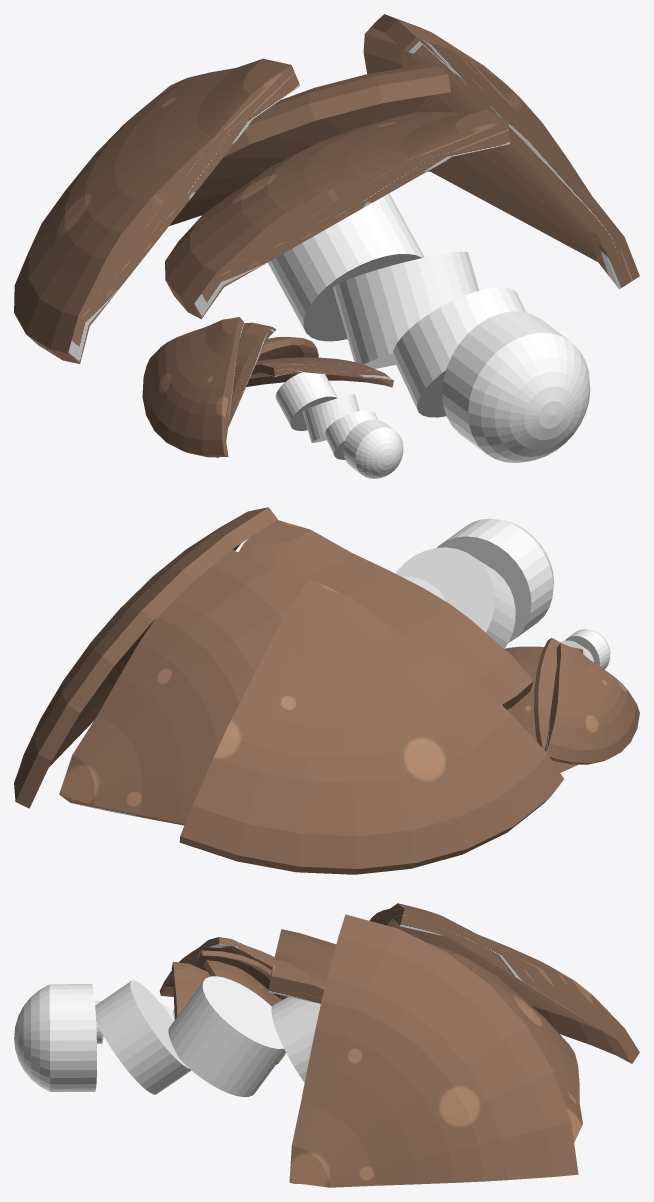
Rendered from shroomcut.gltf.
3 views of the same model, one above another, from view 1: azimuth 30°, elevation 25°; view 2: azimuth 150°, elevation 25°; view 3: azimuth 270°, elevation 25° (orthographic). The views are drawn at different scales.
Parts seen in each view (by area): view 1: Sphere.003; view 2: Sphere.003; view 3: Sphere.003.
Boxes of the visible parts, x1,y1,x2,y2 form: Sphere.003: (14, 14, 639, 478); Sphere.003: (14, 507, 639, 874); Sphere.003: (14, 903, 639, 1187).
Size of the model in its own units: 8.26 by 3.98 by 10.71.
Materials: 1 (1 with a texture image).
